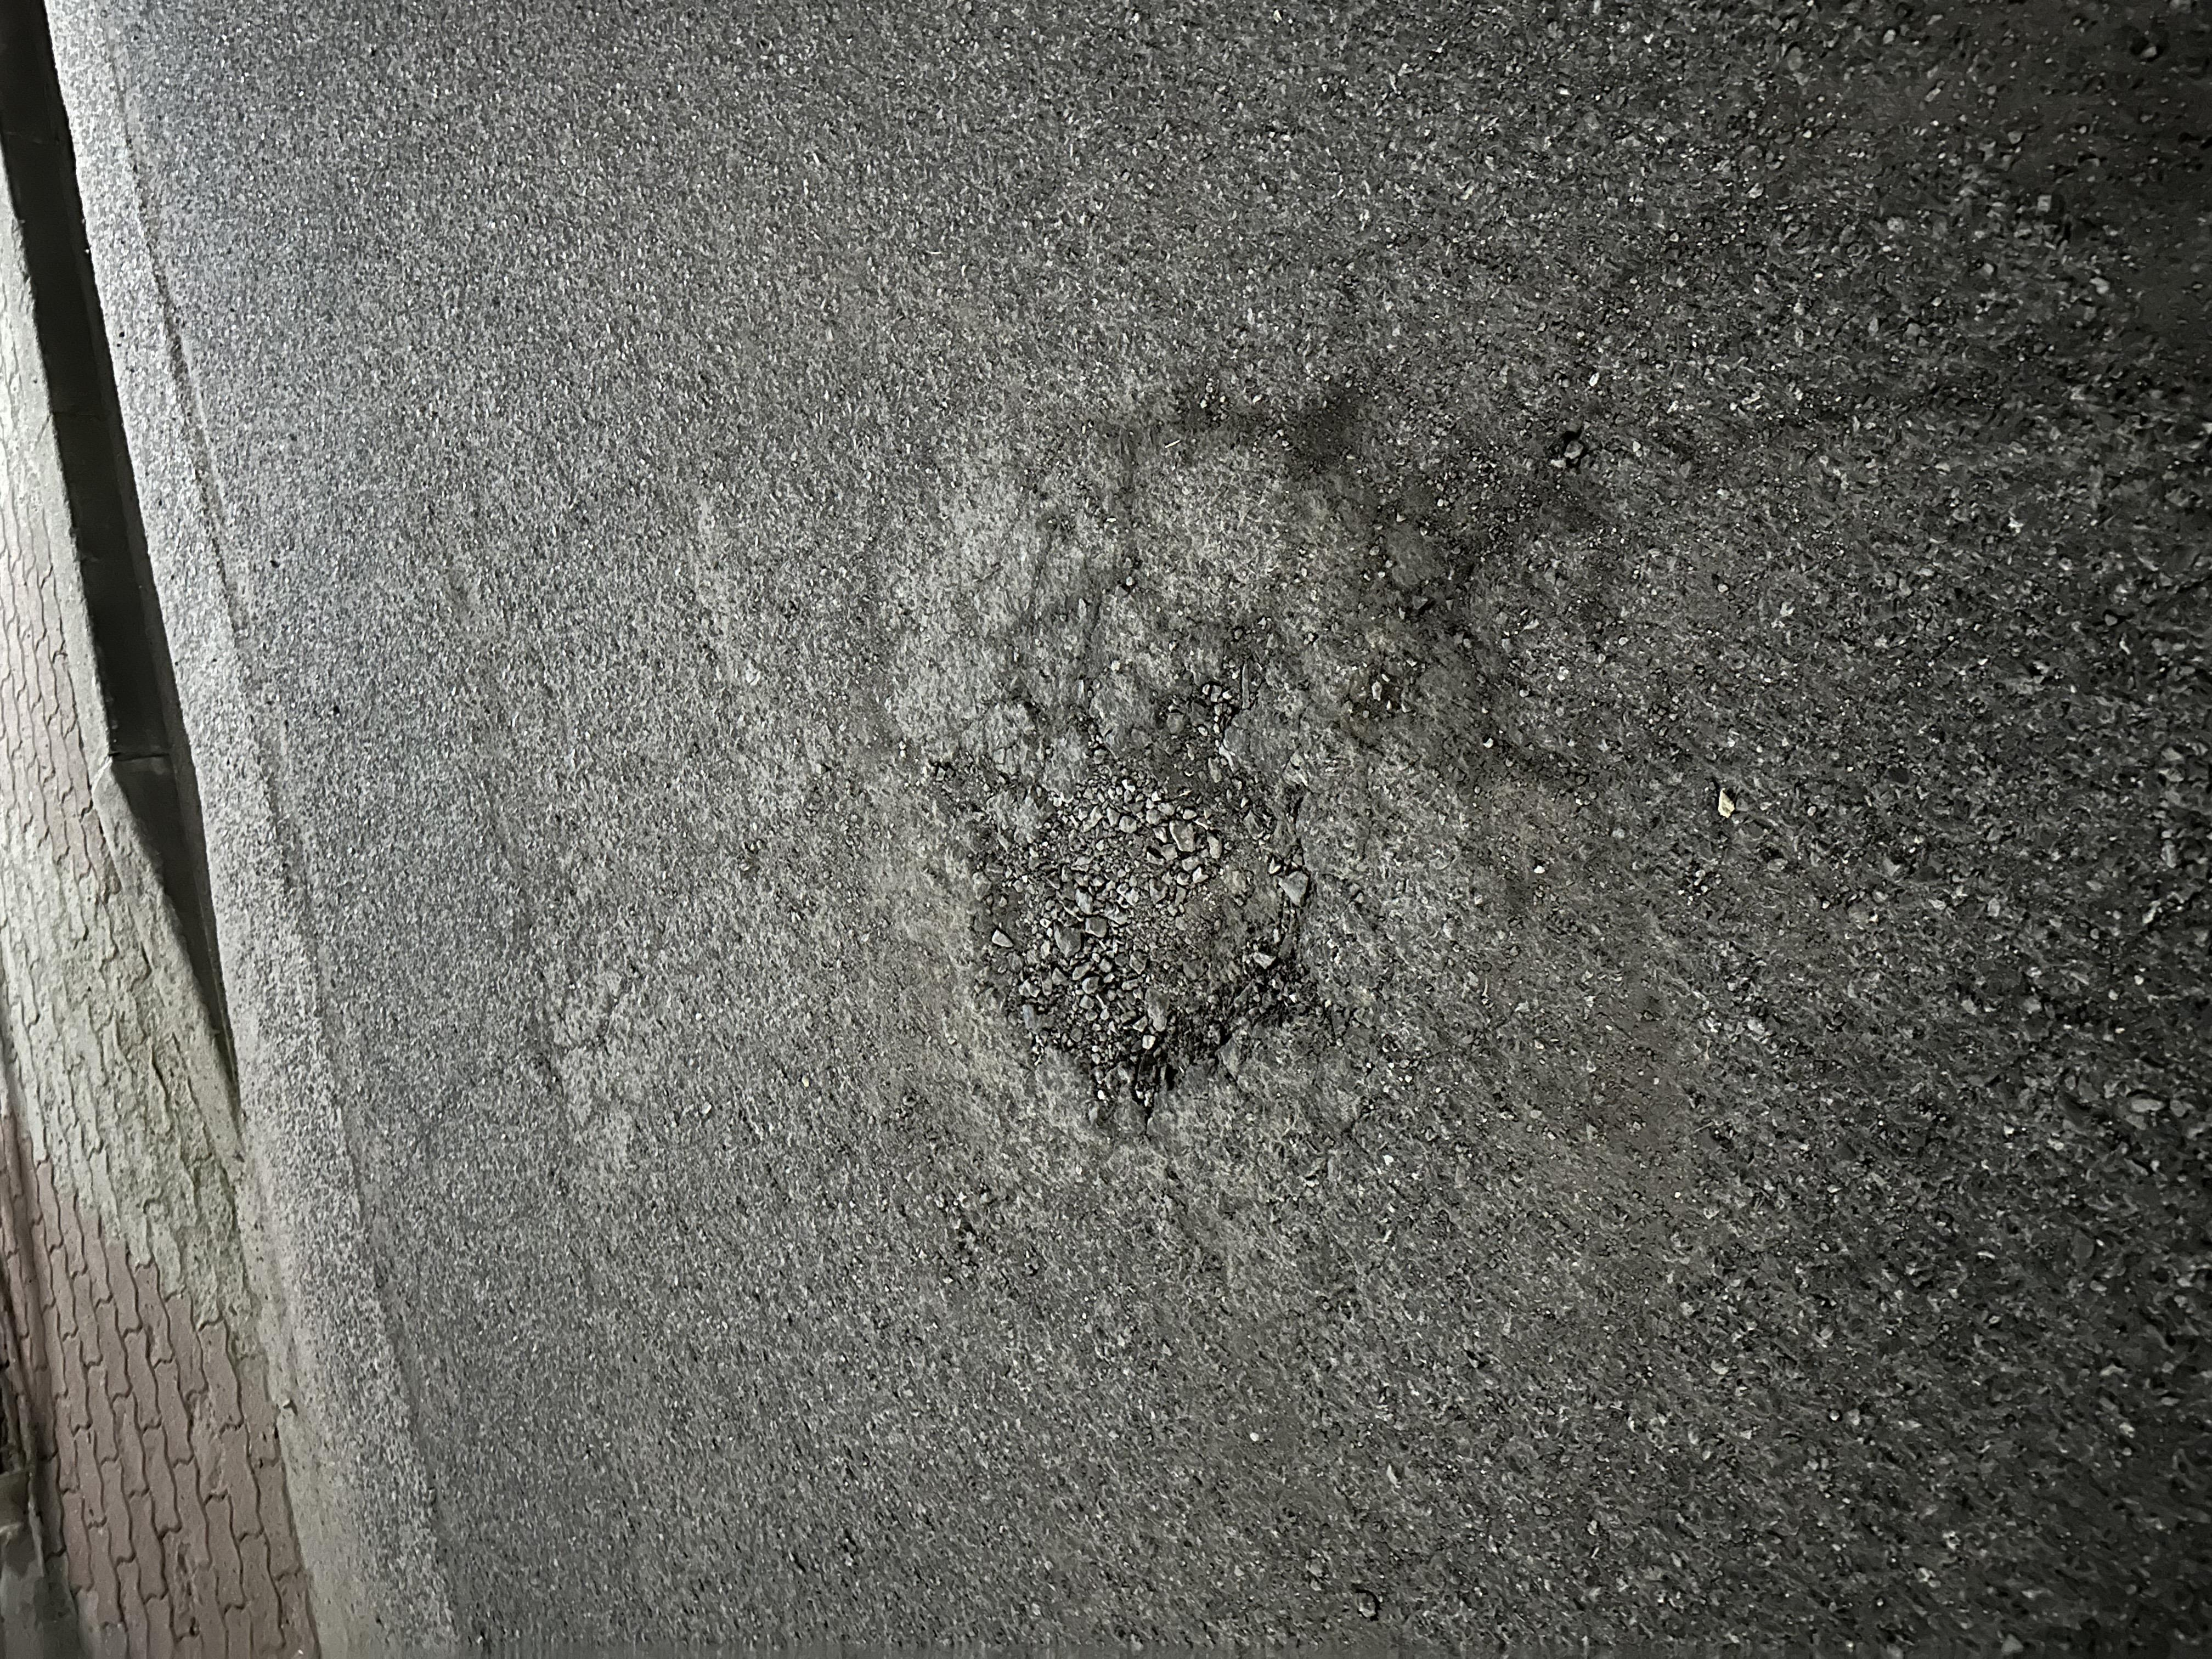pothole: (570, 619, 1803, 1077)
